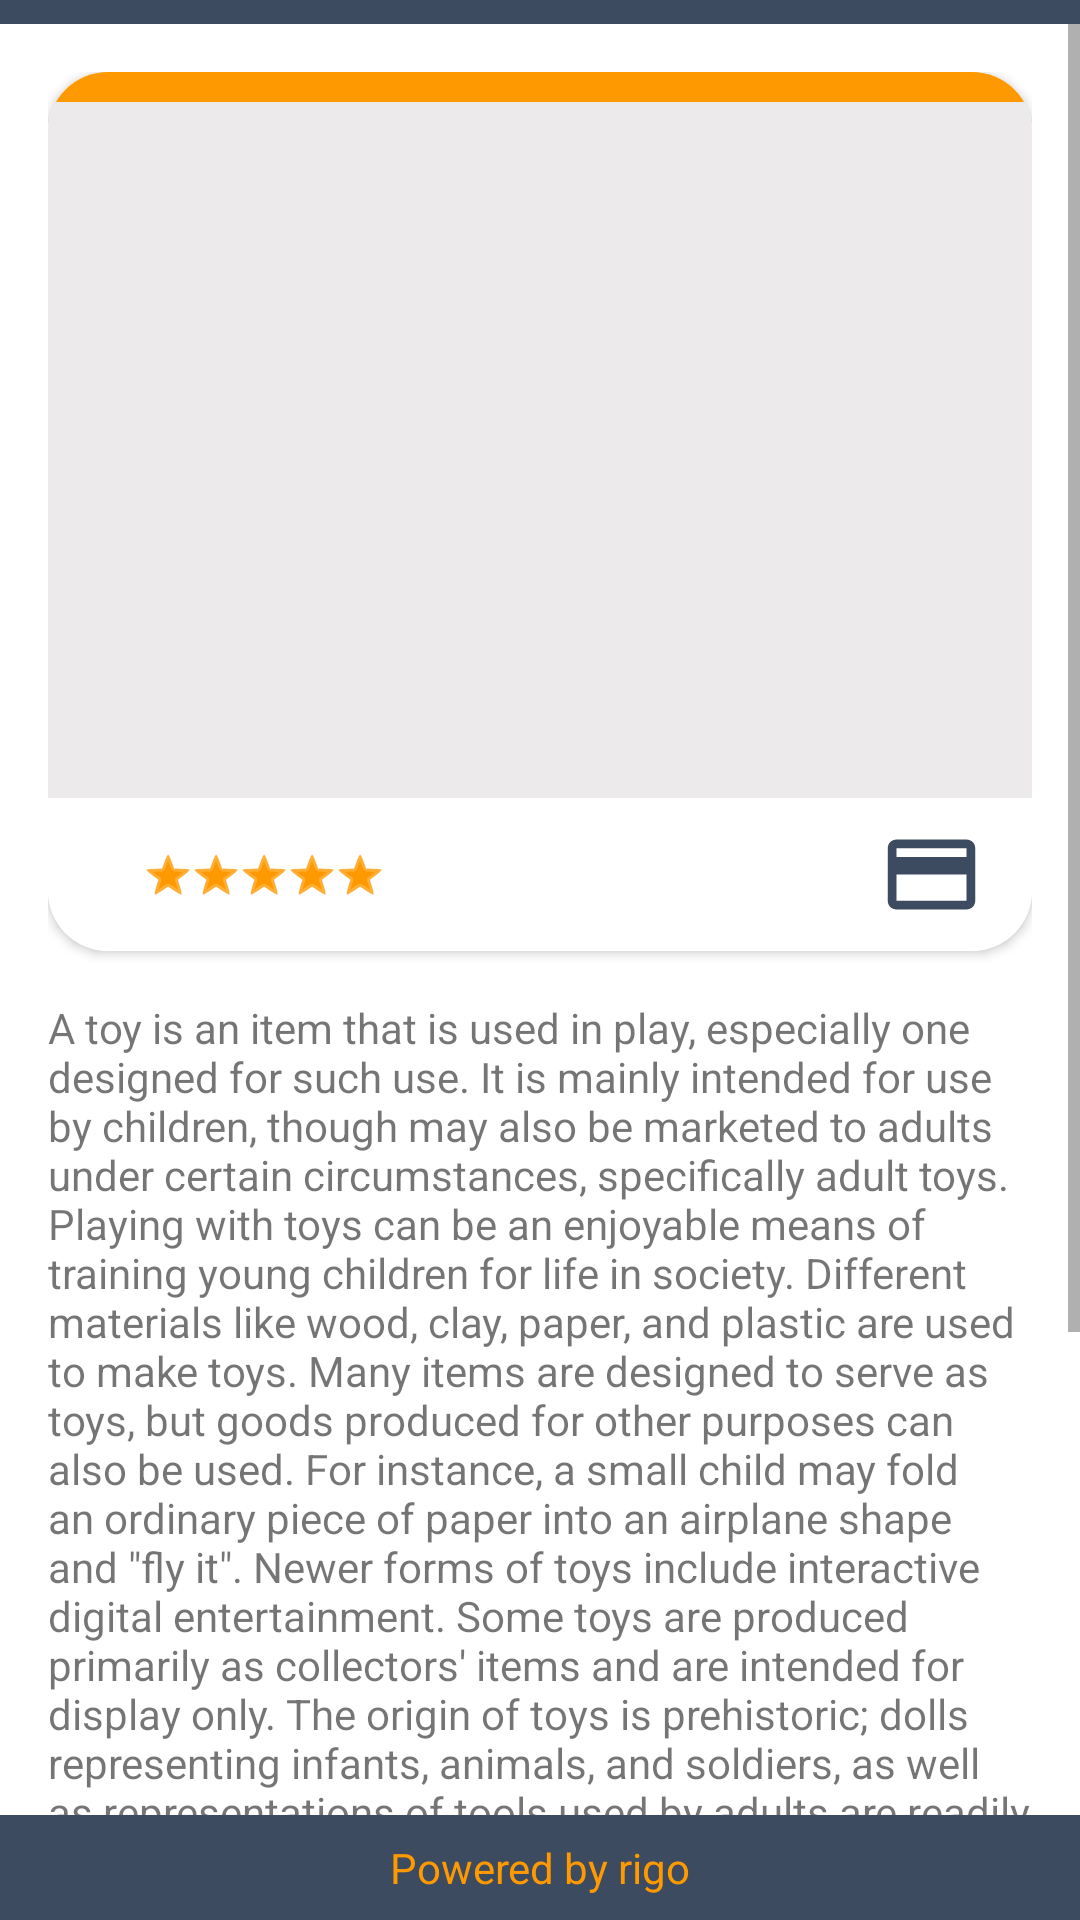

Icon bounding boxes for this 1080*1920 phone screenshot, format (x1, y1, x2, y2):
pay icon: (887, 839, 976, 910)
